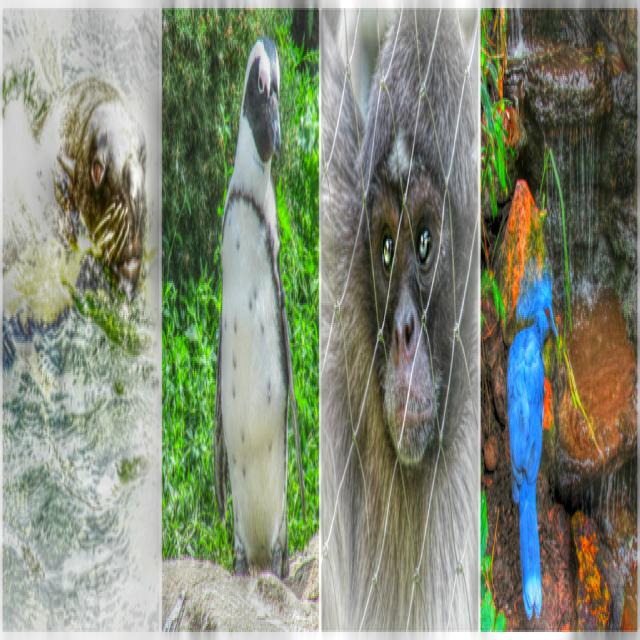Monkey: (312, 0, 490, 632)
